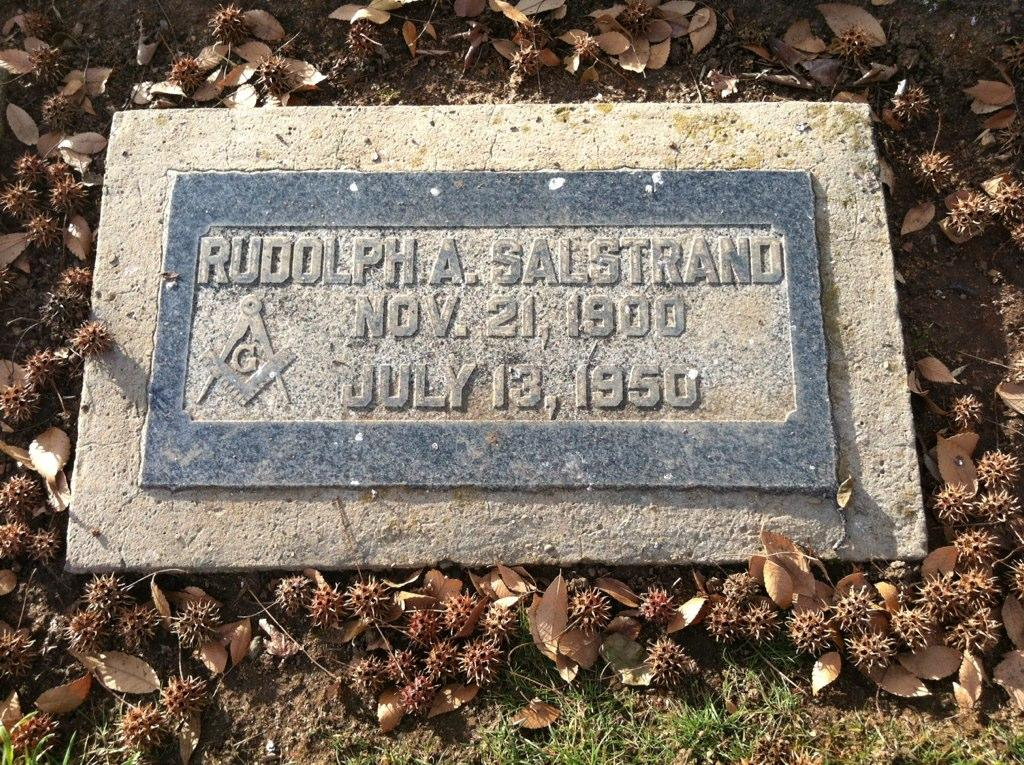flat: (62, 102, 931, 569)
